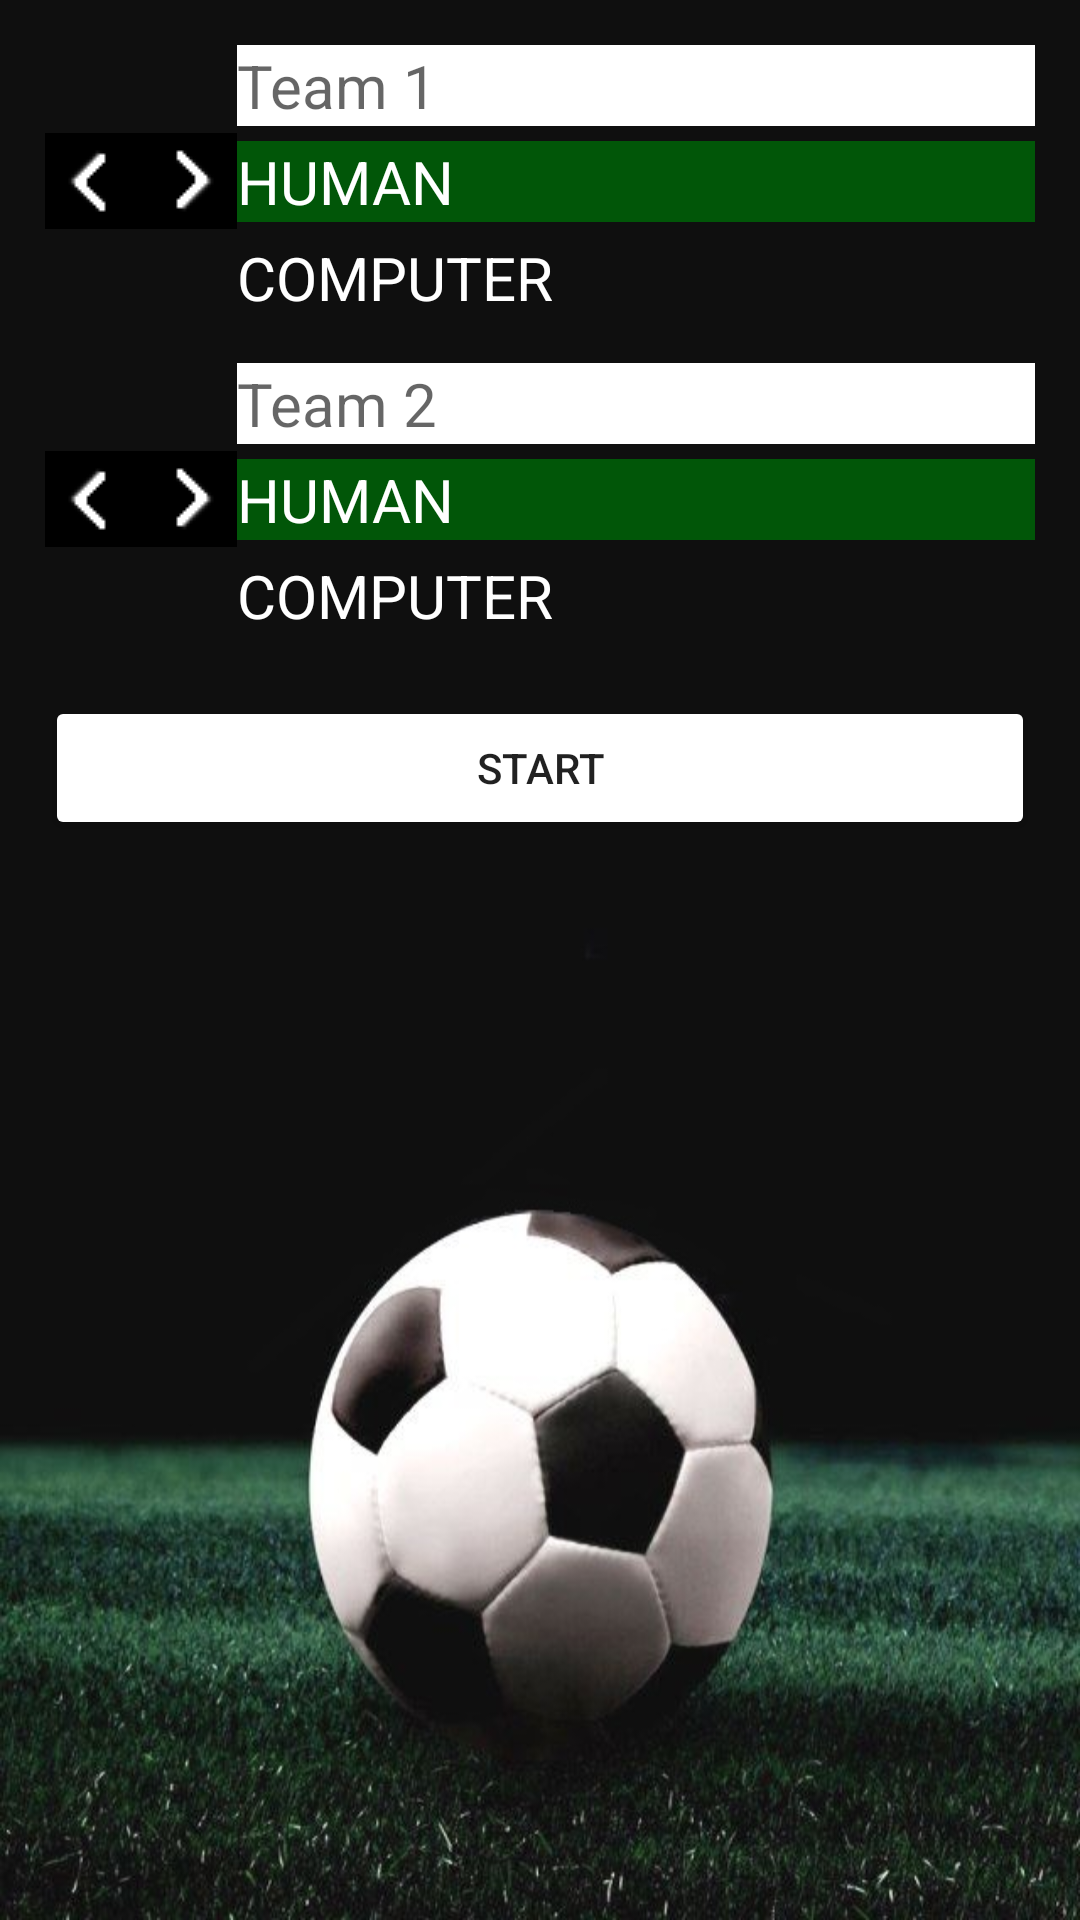

Named icons in this screenshot (1080x1920) and their bounding boxes, [x1, y1, x2, y2]:
left: [45, 133, 141, 229], [45, 451, 141, 547]
right: [141, 133, 237, 229], [141, 451, 237, 547]
